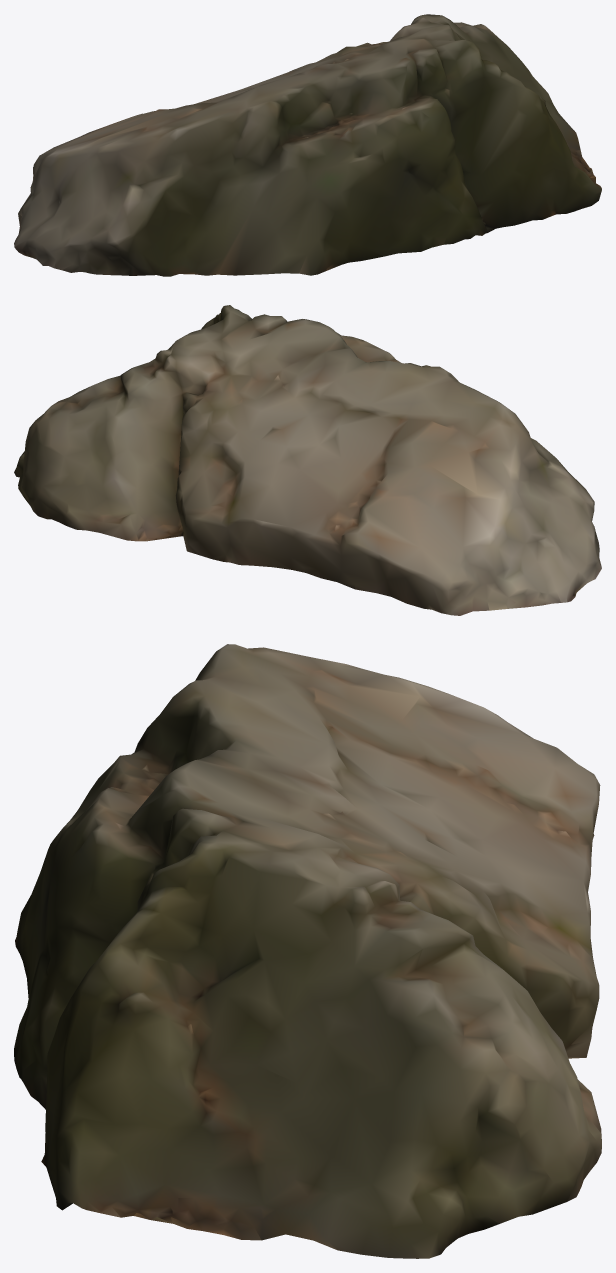
Rendered from SM_Rock_06.fbx.
The picture shows the model from 3 angles, top to bottom: view 1: azimuth 30°, elevation 25°; view 2: azimuth 150°, elevation 25°; view 3: azimuth 270°, elevation 25°; orthographic projection. The views are drawn at different scales.
Parts seen in each view (by area): view 1: Rock_06_LOW.001; view 2: Rock_06_LOW.001; view 3: Rock_06_LOW.001.
Part boxes in pixels (x1,y1,x2,y2): Rock_06_LOW.001: (14, 14, 601, 276); Rock_06_LOW.001: (14, 305, 601, 615); Rock_06_LOW.001: (14, 644, 601, 1258).
Bounding box in the file's own units: 744 × 226 × 385.
